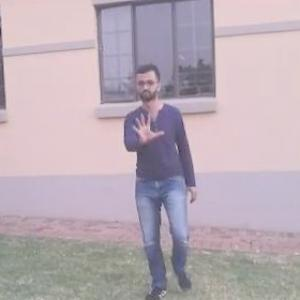follow_hand: (132, 110, 166, 146)
